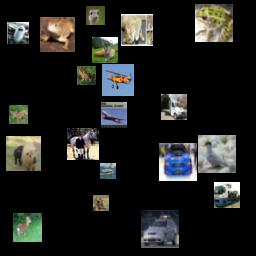airplane: (102, 64, 134, 96), (101, 102, 127, 128), (7, 22, 29, 44)
automobile: (141, 210, 179, 248), (159, 143, 197, 181)
bird: (198, 135, 236, 173), (86, 6, 105, 25)
cat: (121, 14, 153, 46)
deer: (6, 136, 41, 171), (13, 213, 42, 242), (92, 37, 118, 63), (9, 105, 28, 124), (93, 195, 109, 211)
frog: (195, 4, 233, 42), (40, 17, 75, 52), (77, 66, 96, 85)
ship: (100, 163, 116, 179)
truck: (161, 94, 187, 120), (214, 182, 240, 208)
